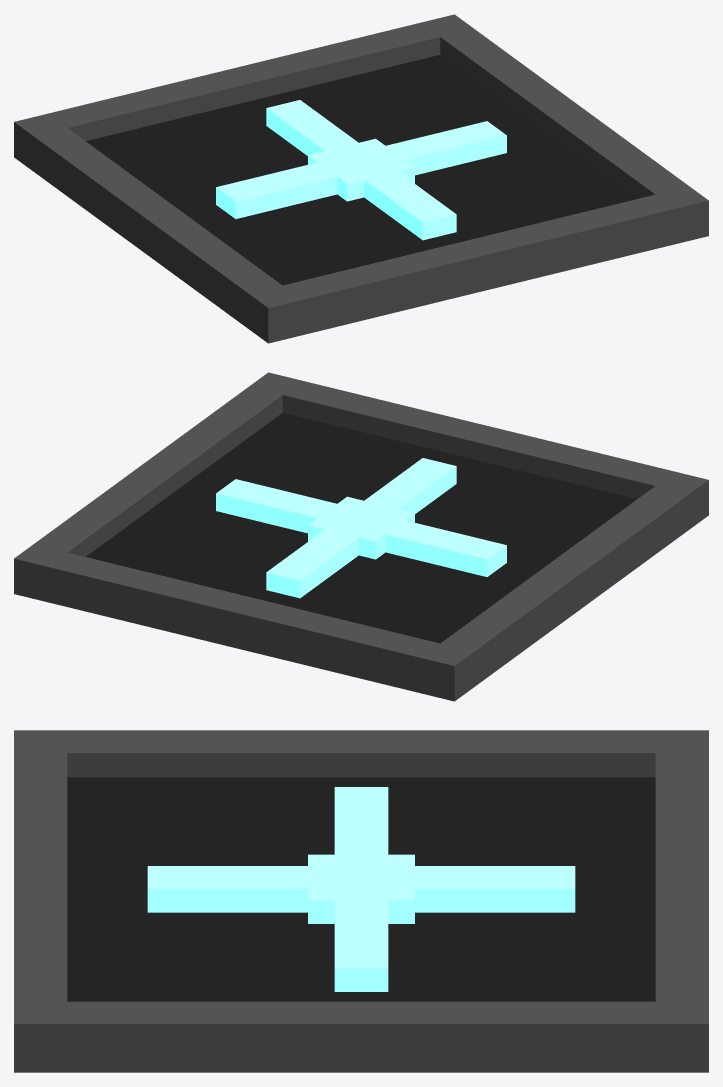
The model's file is trap_LARGE_DOT_TEAL.glb.
The picture shows the model from 3 angles, top to bottom: view 1: azimuth 30°, elevation 25°; view 2: azimuth 150°, elevation 25°; view 3: azimuth 270°, elevation 25°; orthographic projection. The views are drawn at different scales.
Visible parts, largest first — view 1: item_TRAP_LARGE_DOT_TEAL; view 2: item_TRAP_LARGE_DOT_TEAL; view 3: item_TRAP_LARGE_DOT_TEAL.
Boxes of the visible parts, x1=… form: item_TRAP_LARGE_DOT_TEAL: x1=14, y1=14, x2=708, y2=343; item_TRAP_LARGE_DOT_TEAL: x1=14, y1=372, x2=708, y2=701; item_TRAP_LARGE_DOT_TEAL: x1=14, y1=730, x2=708, y2=1072.
Size of the model in its own units: 0.5909 by 0.0455 by 0.5909.
Materials: 1 (1 with a texture image).
